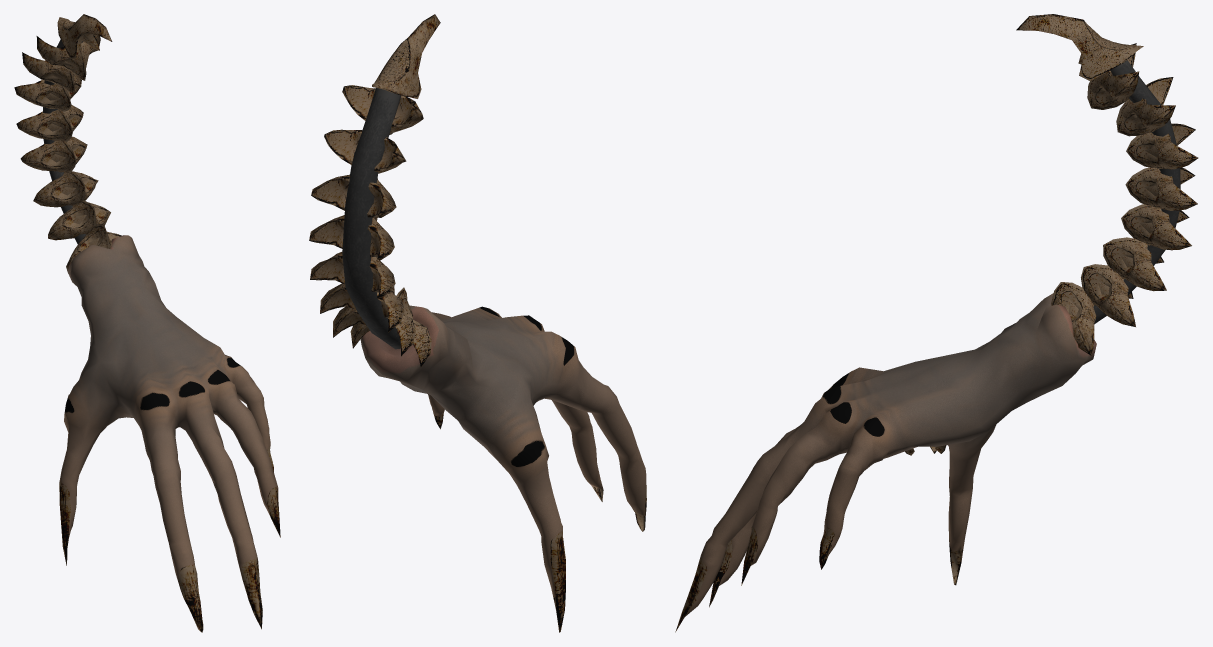
Rendered from Monster Hand.glb.
The picture shows the model from 3 angles, left to right: view 1: azimuth 30°, elevation 25°; view 2: azimuth 150°, elevation 25°; view 3: azimuth 270°, elevation 25°; orthographic projection. The views are drawn at different scales.
Visible parts, largest first — view 1: Hande_low, Joint_low (×8), Thorn_low, Spine_low; view 2: Hande_low, Joint_low (×8), Spine_low, Thorn_low; view 3: Hande_low, Joint_low (×8), Thorn_low, Spine_low.
Part boxes in pixels (left/top/right/bottom): Hande_low: left=59, top=235, right=280, bottom=632; Joint_low (×8): left=14, top=35, right=121, bottom=270; Thorn_low: left=57, top=14, right=112, bottom=58; Spine_low: left=43, top=39, right=85, bottom=244; Hande_low: left=360, top=305, right=646, bottom=632; Joint_low (×8): left=309, top=85, right=431, bottom=366; Spine_low: left=342, top=88, right=401, bottom=349; Thorn_low: left=372, top=14, right=440, bottom=98; Hande_low: left=675, top=293, right=1096, bottom=632; Joint_low (×8): left=1051, top=43, right=1198, bottom=355; Thorn_low: left=1016, top=14, right=1143, bottom=81; Spine_low: left=1093, top=60, right=1180, bottom=324.
Size of the model in its own units: 1.35 by 4.05 by 3.13.
1 material, 1 textured.
